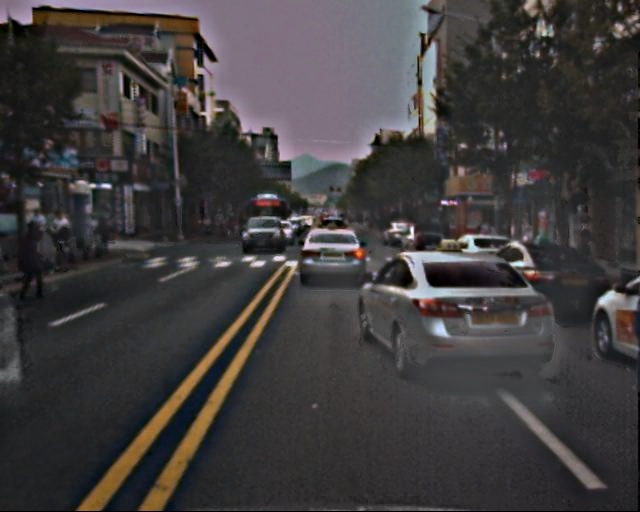person: (29, 205, 114, 277), (1, 262, 26, 414), (572, 220, 598, 284)
